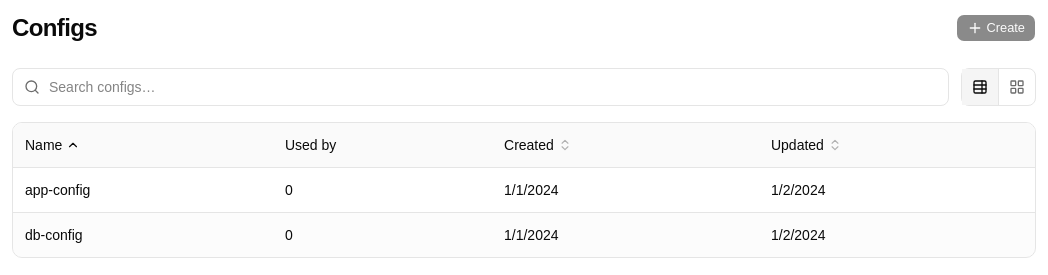
Test case: ConfigList › filters by search
Expected: the text "app-config" is shown, [25,182,90,198]
In the field with placeholder "Search configs…": [480, 87] box [12,68,949,106], type "db"
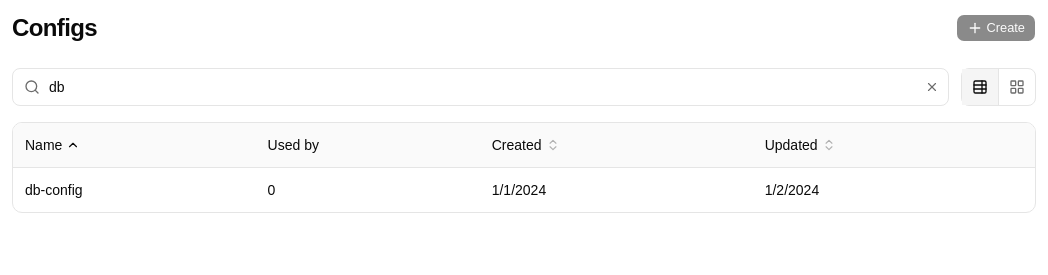
Expected: the text "db-config" is shown, [25,182,83,198]
Now the text "app-config" is gone
